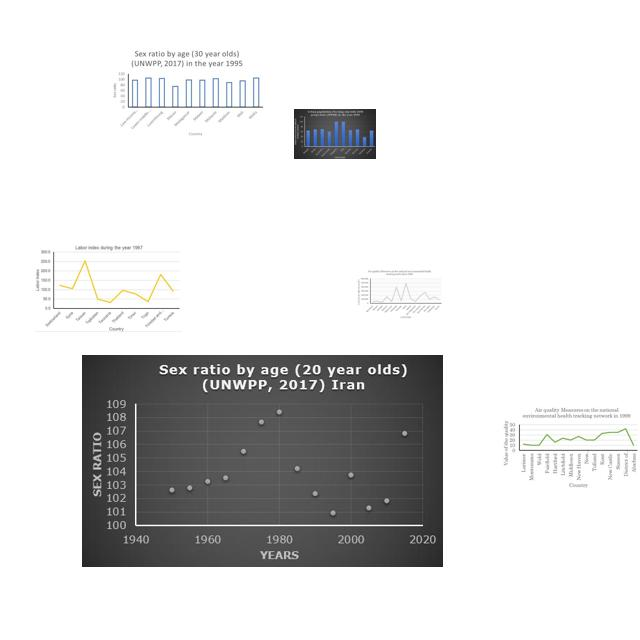Graph: (82, 355, 443, 567), (109, 47, 265, 138), (35, 244, 182, 332), (500, 405, 640, 490), (356, 269, 443, 320), (294, 109, 376, 159)
